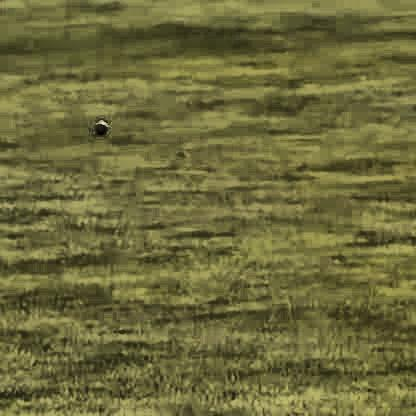golfball: (93, 112, 104, 130)
